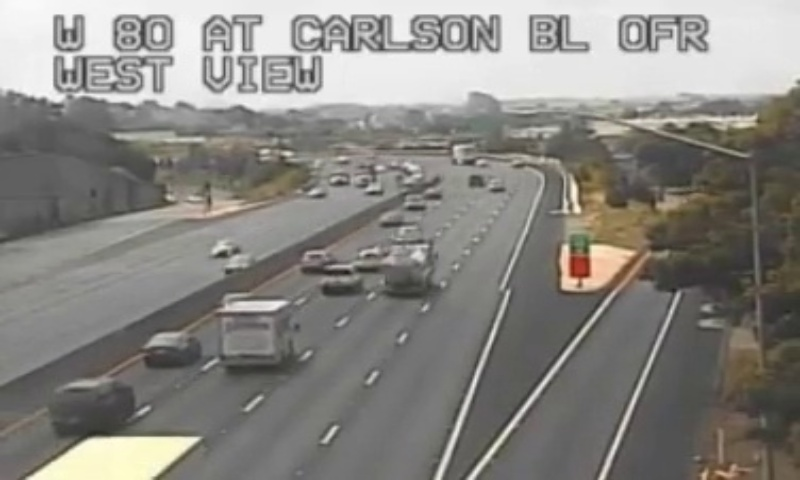car: (48, 378, 136, 429), (142, 330, 199, 368), (321, 265, 361, 290), (300, 249, 334, 274), (355, 247, 382, 270)
small-truck: (219, 297, 293, 369)
tank-truck: (385, 241, 436, 297)
